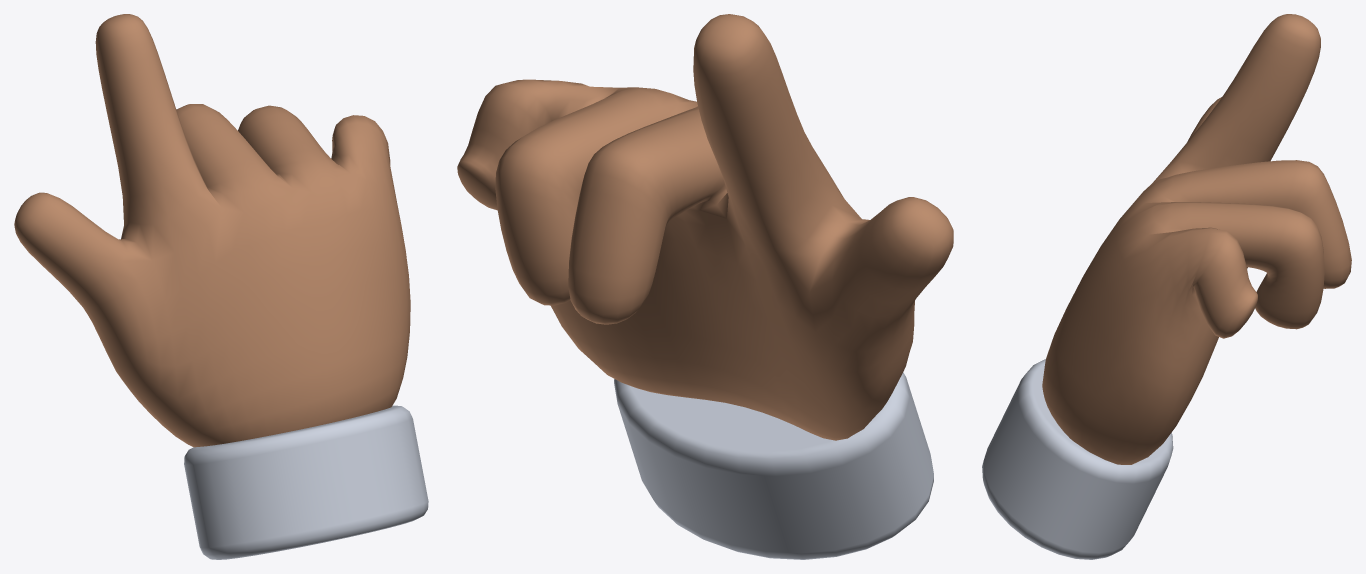
The model's file is hand.gltf.
The picture shows the model from 3 angles, left to right: view 1: azimuth 30°, elevation 25°; view 2: azimuth 150°, elevation 25°; view 3: azimuth 270°, elevation 25°; orthographic projection. The views are drawn at different scales.
Parts seen in each view (by area): view 1: hand-3, Cylinder; view 2: hand-3, Cylinder; view 3: hand-3, Cylinder.
Boxes of the visible parts, x1,y1,x2,y2 form: hand-3: [14, 14, 410, 447]; Cylinder: [184, 405, 428, 559]; hand-3: [457, 14, 953, 440]; Cylinder: [614, 372, 933, 559]; hand-3: [1042, 14, 1351, 464]; Cylinder: [982, 359, 1173, 559].
Size of the model in its own units: 1.25 by 1.57 by 1.1.
